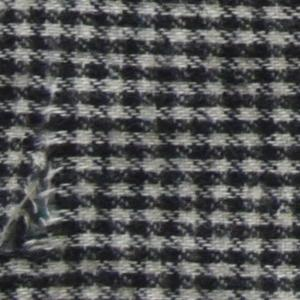Damage: (1, 60, 83, 265)
